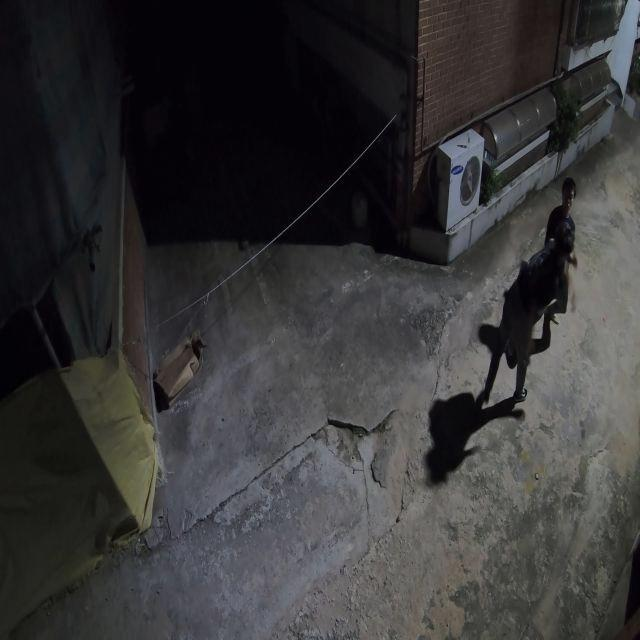fight: (483, 178, 578, 414)
